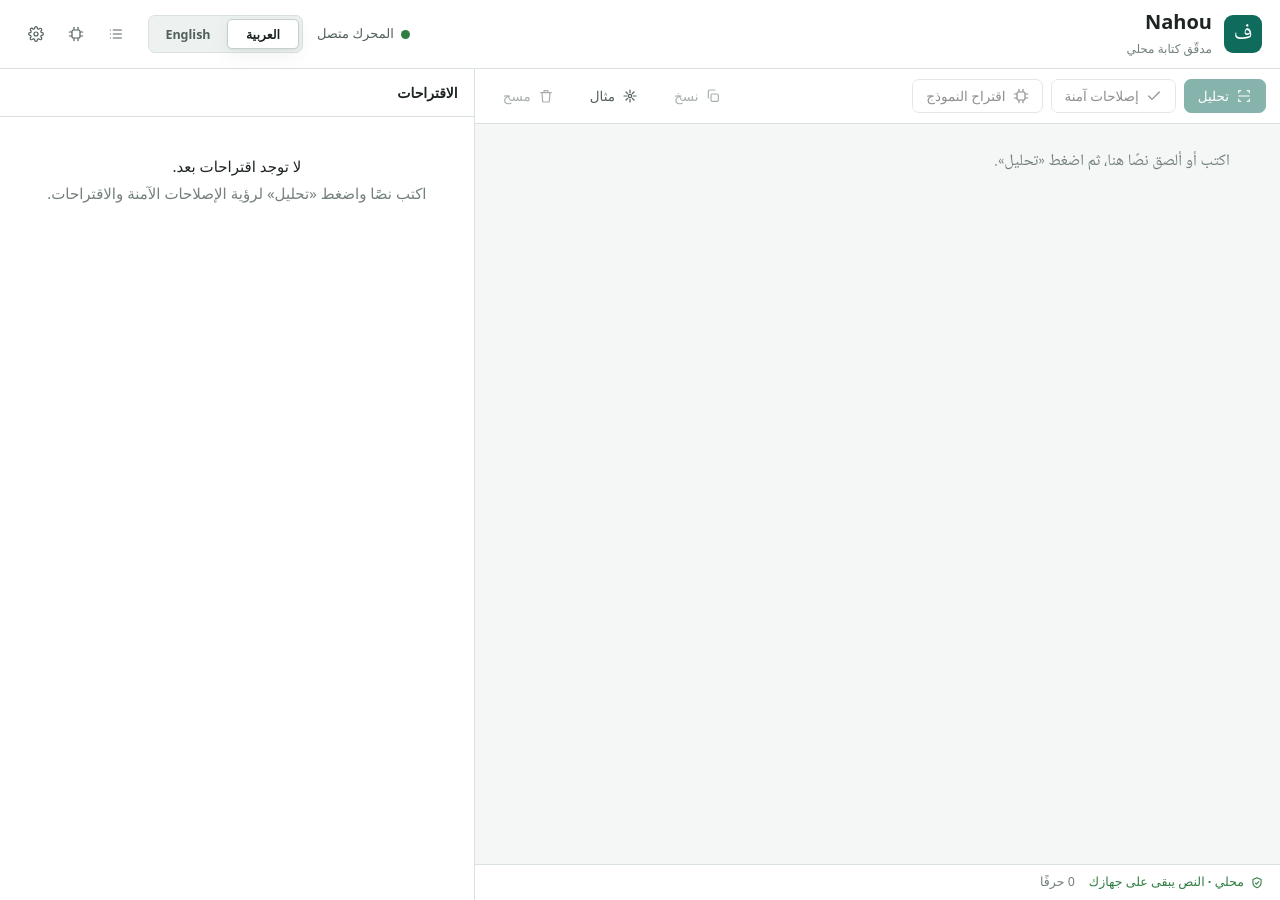
local LLM status panel › requests and manually applies a local LLM rewrite
Click the button "مثال": coordinates (614, 96) [576,79,652,113]
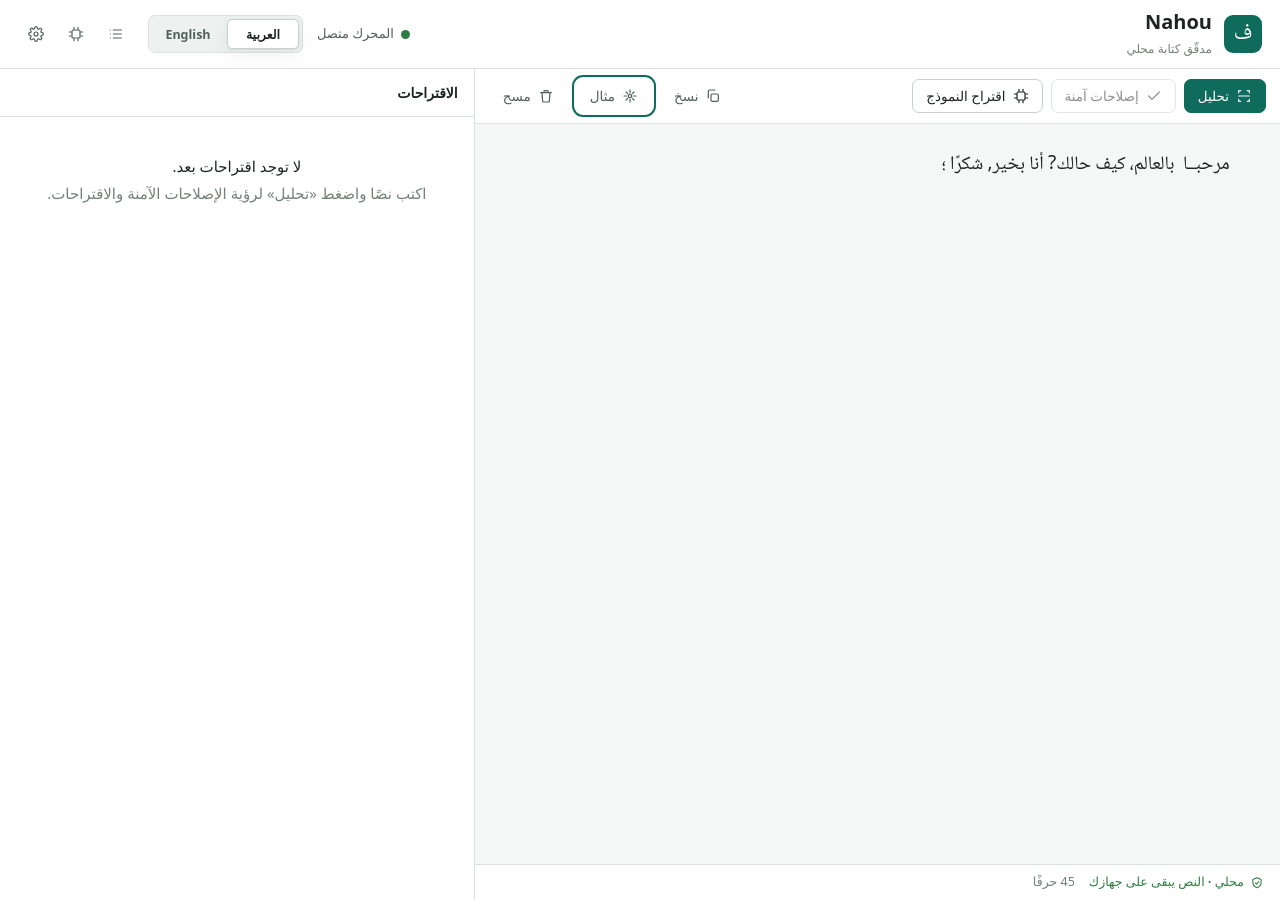
Click the button "اقتراح النموذج": coordinates (977, 96) [912,79,1042,113]
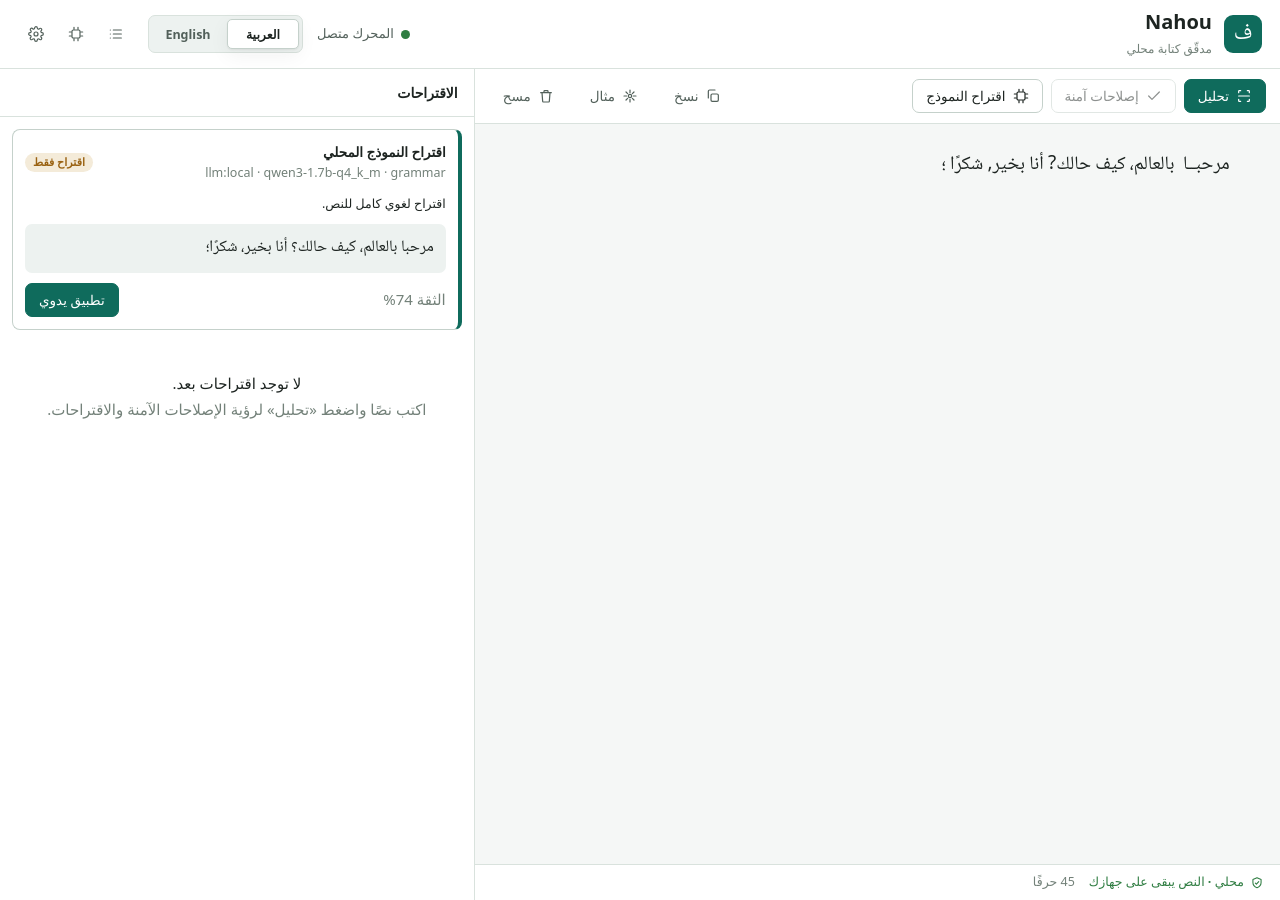
Expected: the element with test id "llm-suggestion" is shown, [12,129,462,330]
Expected: the text "llm:local · qwen3-1.7b-q4_k_m · grammar" is shown, [205,164,446,183]
Expected: the text "مرحبا بالعالم، كيف حالك؟ أنا بخير، شكرًا؛" is shown, [25,224,446,273]
Click the button "تطبيق يدوي": coordinates (72, 300) [25,282,119,316]
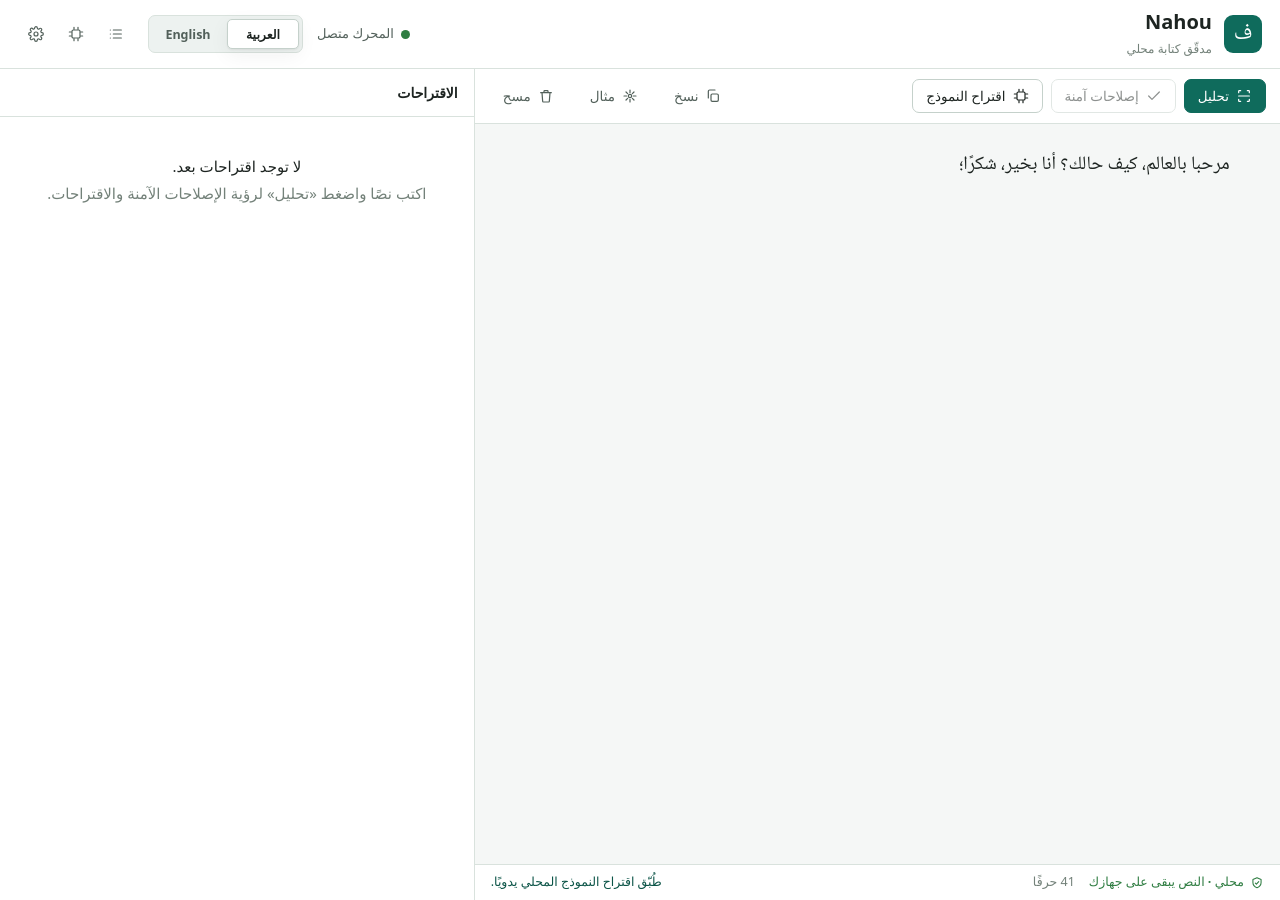
Expected: the text "طُبّق اقتراح النموذج المحلي يدويًا." is shown, [491,873,662,892]
